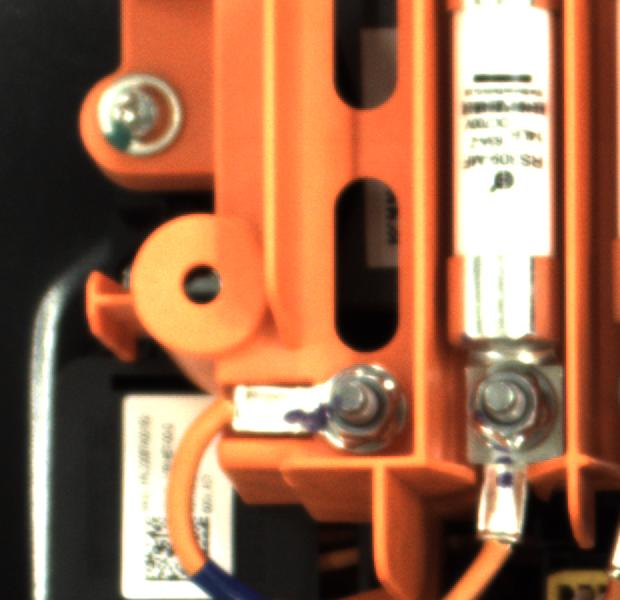screw_m: (83, 62, 195, 160)
screw_s: (466, 361, 563, 453), (316, 360, 411, 453)
